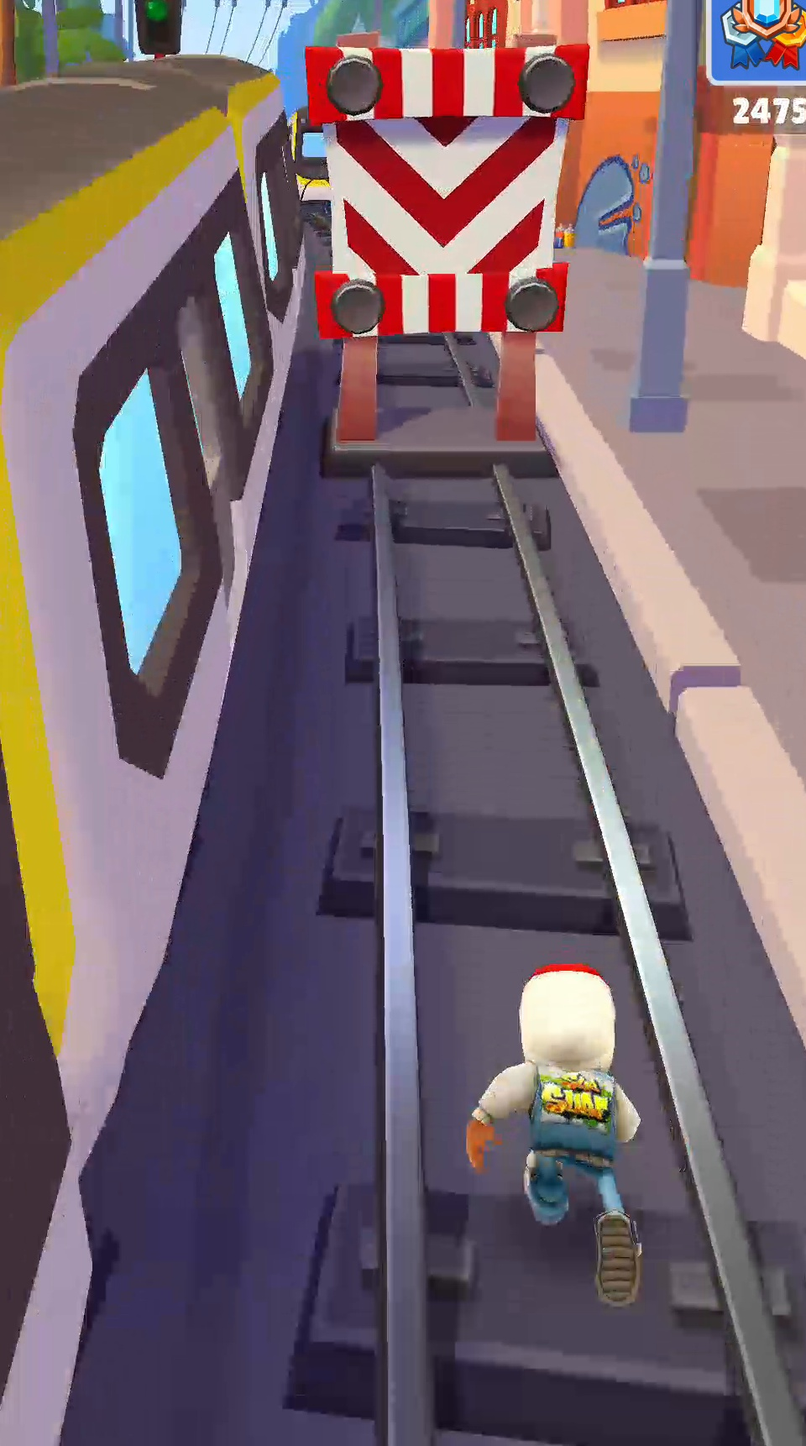jump-barrier: (306, 36, 588, 458)
train: (0, 55, 304, 1445), (291, 107, 328, 204)
